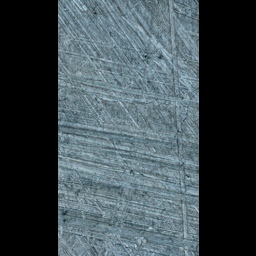d: (94, 0, 168, 255), (57, 70, 198, 129), (164, 0, 194, 256)
